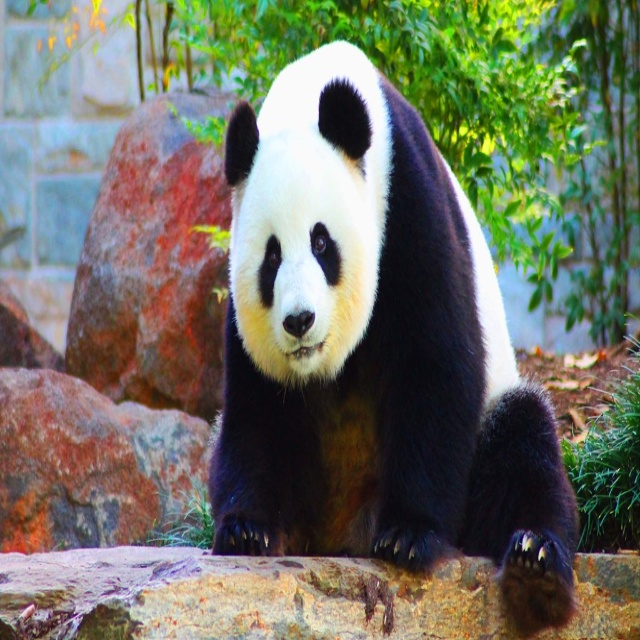Panda: (207, 41, 581, 629)
